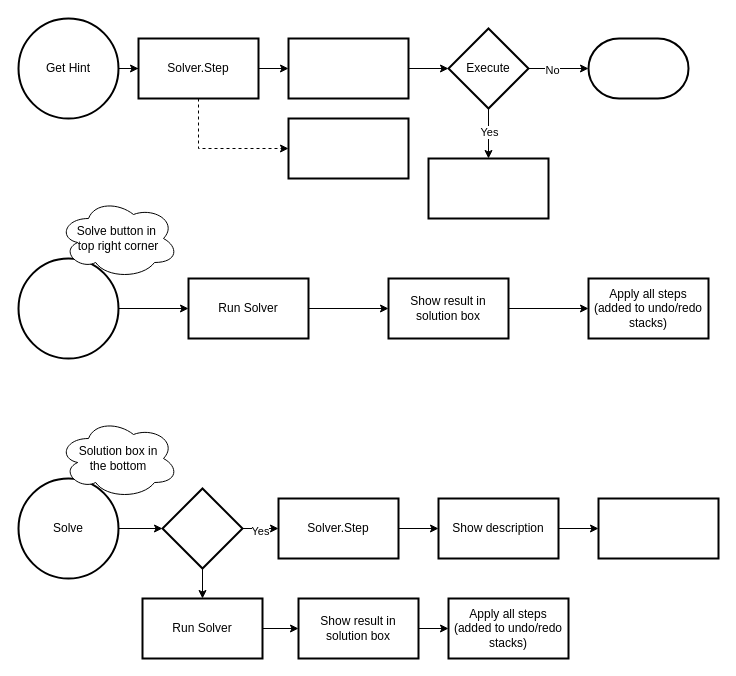
Some shapes in this 736 by 676 pixel diagram are drawn without their labels. Each missing label, with the centre of its shape:
"Add step to undo/redo stack" goes at pixel 488 188.
"Apply step" goes at pixel 658 528.
"End" goes at pixel 638 68.
"Quick Solve" goes at pixel 68 308.
"Show Dialog with description of solver step (incl. button to execute)" goes at pixel 348 68.
"Show step in solution box" goes at pixel 348 148.
"Step" goes at pixel 202 528.
